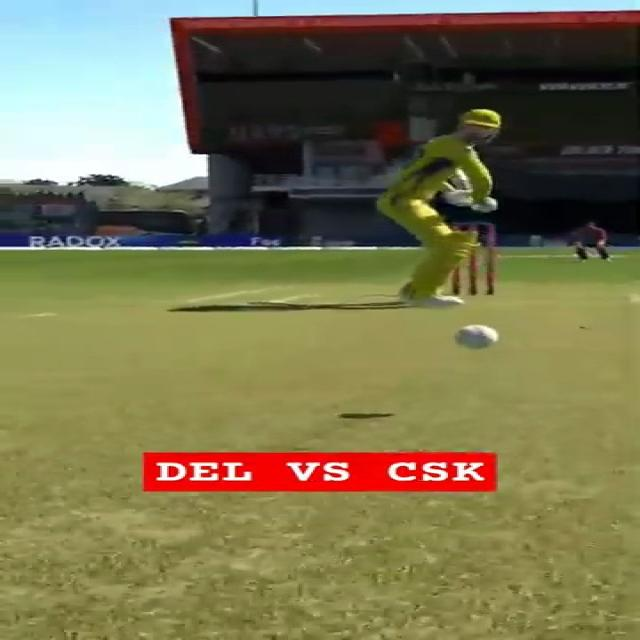ball: (450, 320, 500, 350)
